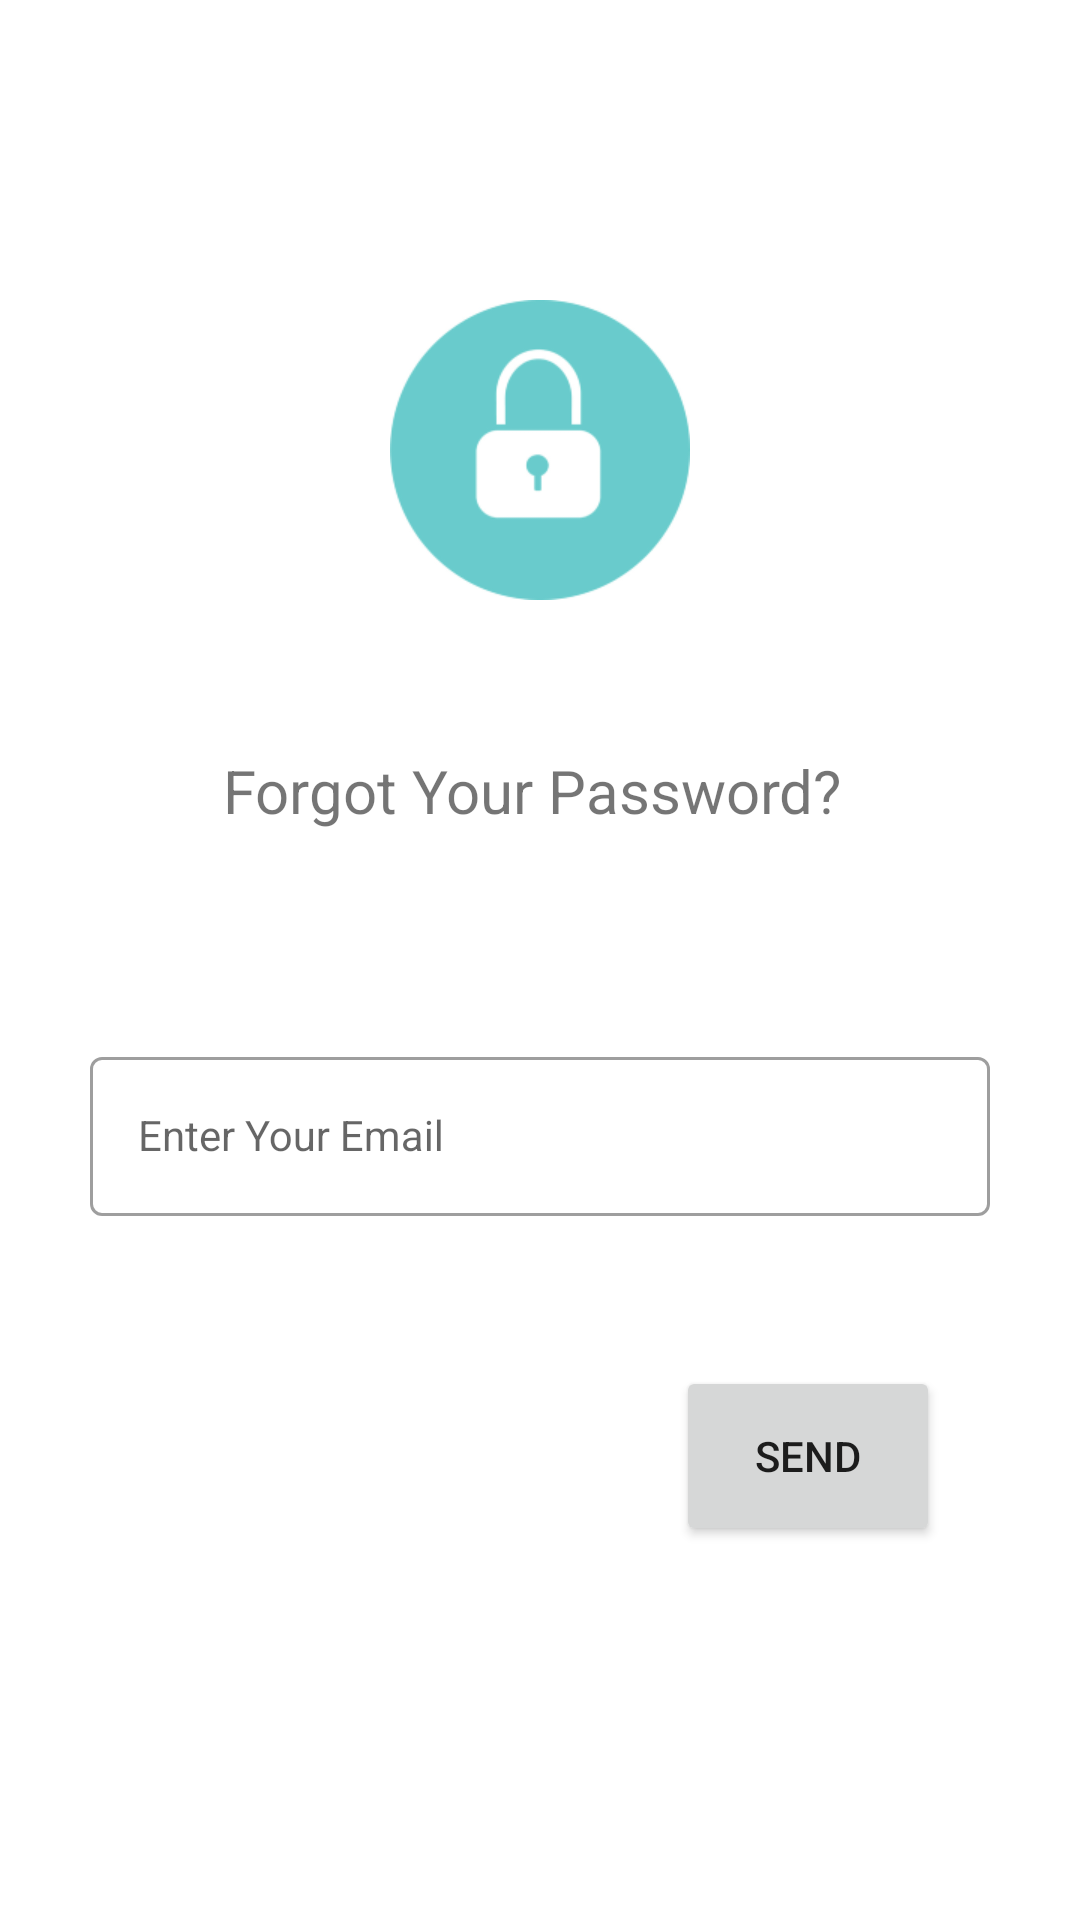

Named icons in this screenshot (1080px×1920px) and their bounding boxes, BBox(x1, y1, x2, y2):
passwordlockimage: BBox(390, 300, 690, 600)
